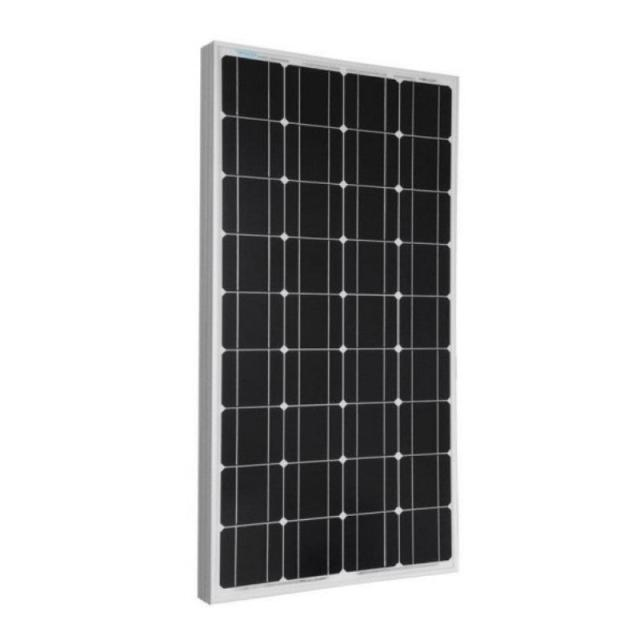clean-solar-panel: (286, 66, 299, 122)
